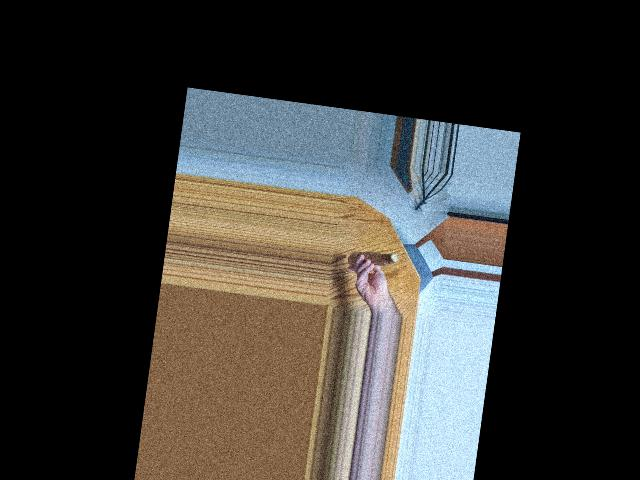sweet_potato: (347, 248, 402, 270)
